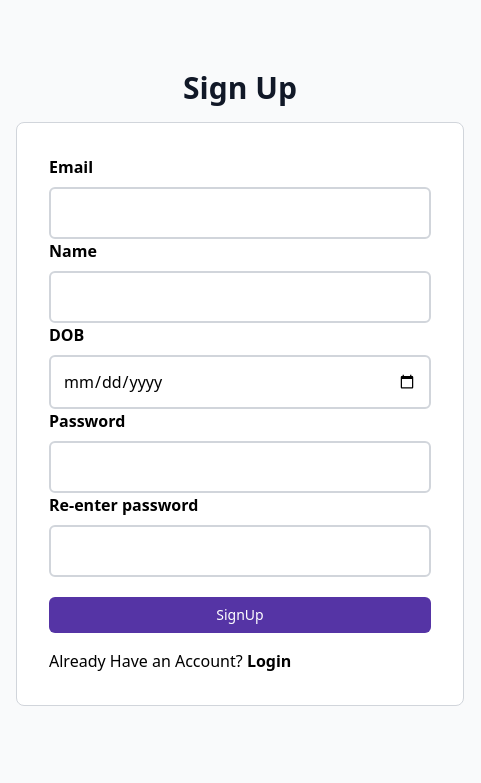
Test: validation › Password shorter than 8 characters
Type "123" into the password field labelled "Password" at (240, 467), box [49,441,431,493]
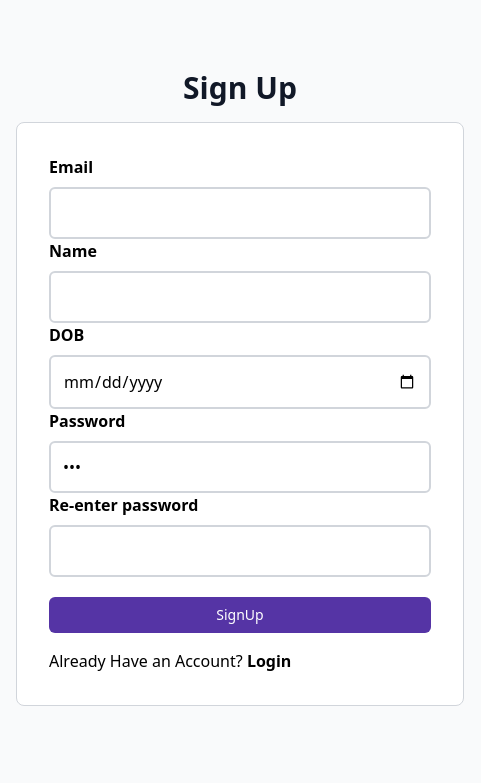
Submit the form from the button "SignUp", box [49,597,431,633]
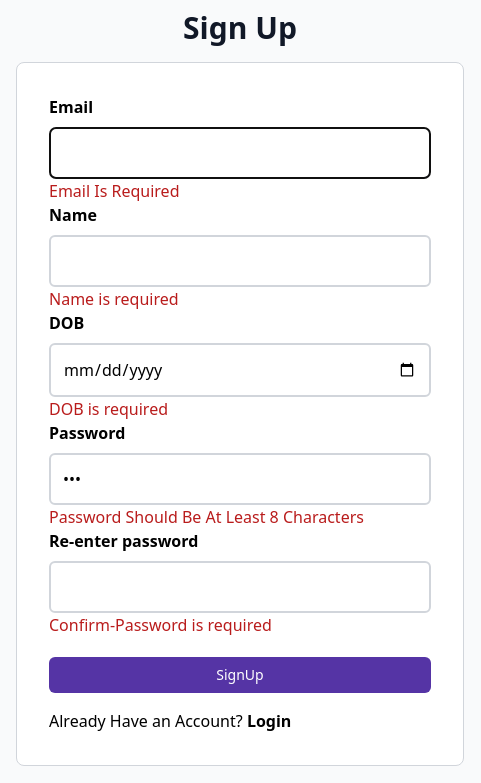
Expected: the text "Password Should Be At Least 8 Characters" is shown, [49,506,364,528]
